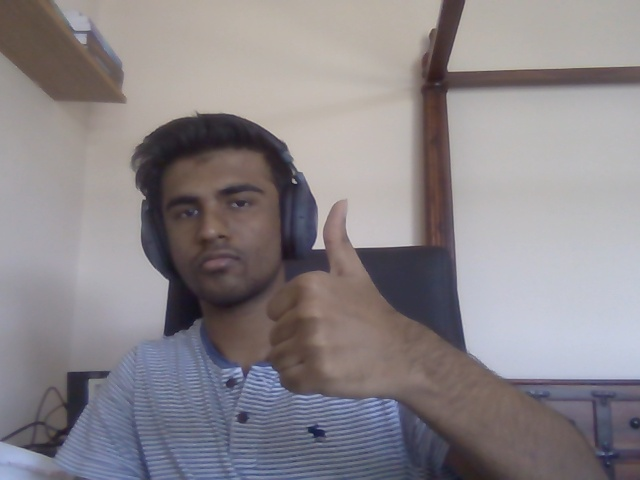Yes: (266, 199, 396, 401)
